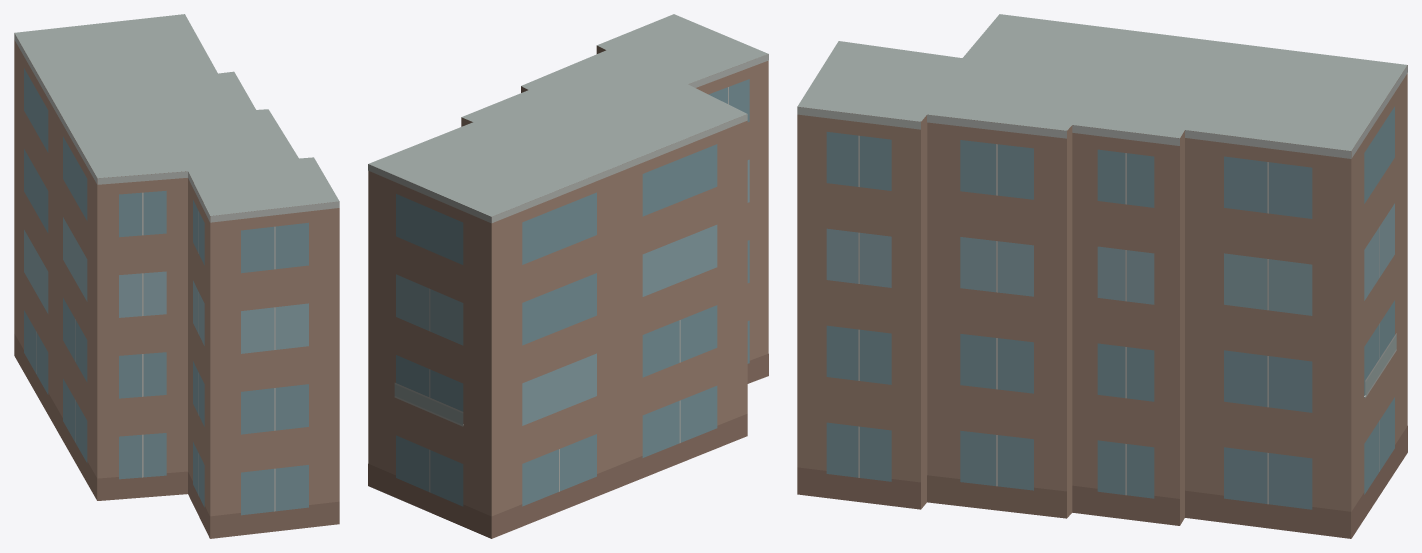
File: survey-upis-32795217.glb
3 renders of one model, left to right at view 1: azimuth 30°, elevation 25°; view 2: azimuth 150°, elevation 25°; view 3: azimuth 270°, elevation 25°, orthographic. The views are drawn at different scales.
Visible parts, largest first — view 1: survey-upis-32795217.tmp; view 2: survey-upis-32795217.tmp; view 3: survey-upis-32795217.tmp.
Boxes of the visible parts, x1,y1,x2,y2 form: survey-upis-32795217.tmp: (14,14,339,538); survey-upis-32795217.tmp: (368,14,768,538); survey-upis-32795217.tmp: (797,14,1407,538).
Bounding box in the file's own units: 9.11 × 12 × 17.13.
